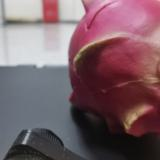pitaya: (68, 1, 160, 136)
